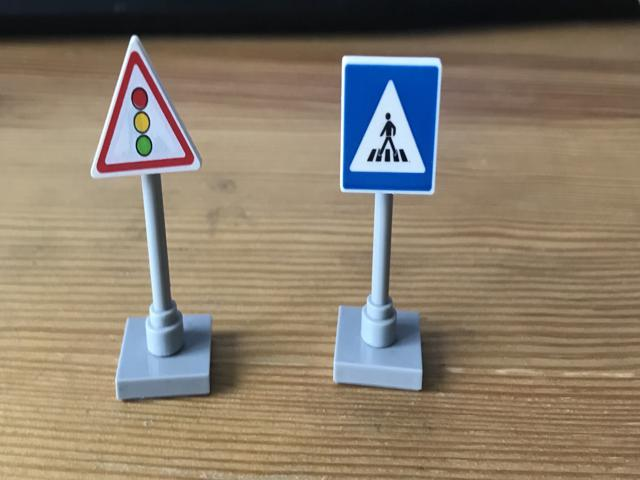fußgängerüberweg: (340, 58, 439, 194)
lichtzeichenanlage: (89, 36, 197, 180)
